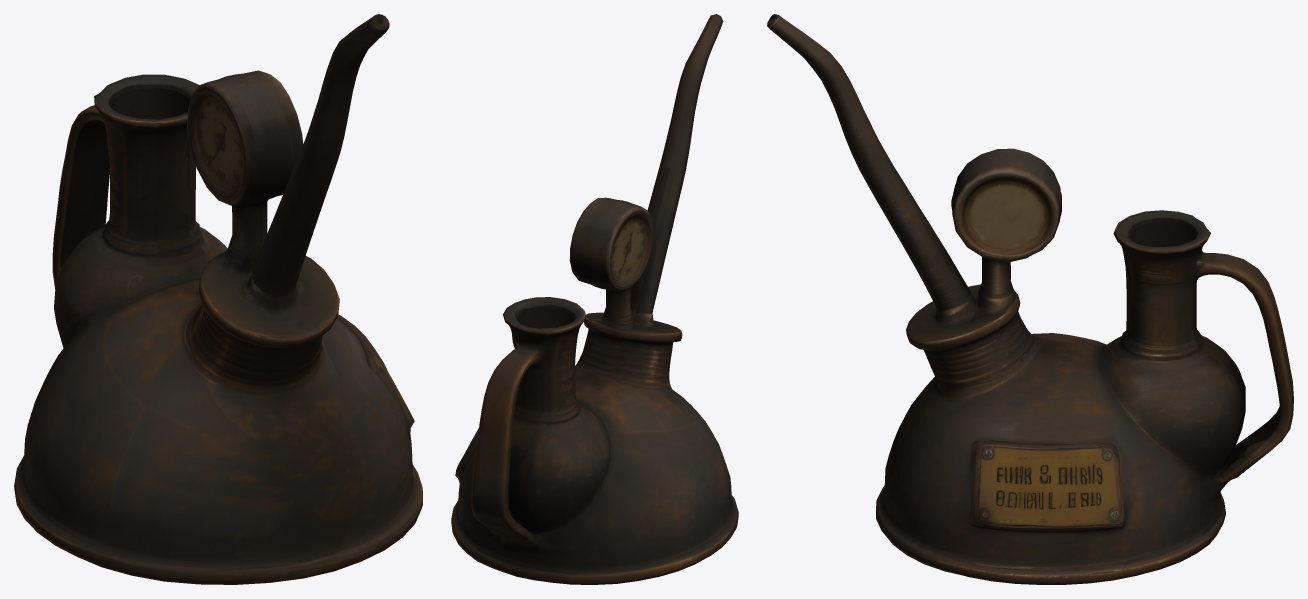
The model's file is vintage_oil_can.glb.
3 renders of one model, left to right at view 1: azimuth 30°, elevation 25°; view 2: azimuth 150°, elevation 25°; view 3: azimuth 270°, elevation 25°, orthographic. The views are drawn at different scales.
Parts seen in each view (by area): view 1: model.004; view 2: model.004; view 3: model.004.
Part boxes in pixels (x1,y1,x2,y2): model.004: (14, 14, 422, 584); model.004: (451, 14, 738, 584); model.004: (767, 14, 1293, 584).
Size of the model in its own units: 4.57 by 7.63 by 7.29.
Materials: 1 (1 with a texture image).
